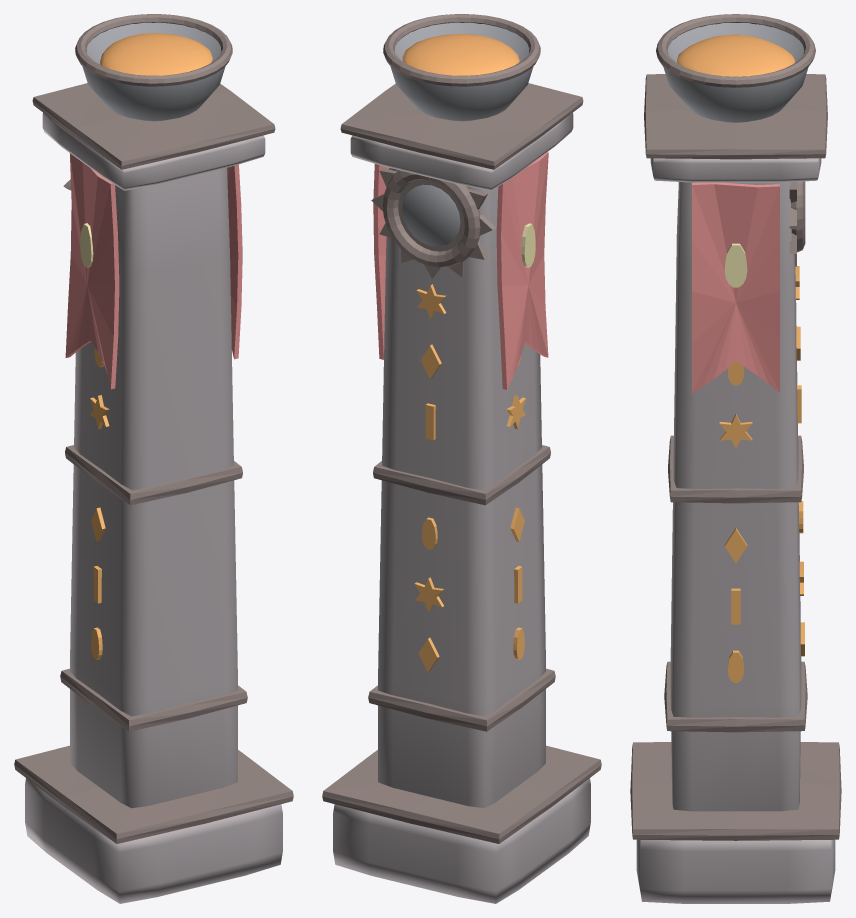
The model's file is RopeTower.glb.
3 views of the same model, side by side, from view 1: azimuth 30°, elevation 25°; view 2: azimuth 150°, elevation 25°; view 3: azimuth 270°, elevation 25° (orthographic).
Visible parts, largest first — view 1: Stone, Trim, Cloth, Metal, Coals, Glow; view 2: Stone, Trim, Cloth, Metal, Glow, Coals; view 3: Stone, Trim, Cloth, Metal, Coals, Glow, Emblem.
Part boxes in pixels (x1,y1,x2,y2): Stone: (25, 113, 282, 903); Trim: (14, 14, 293, 843); Cloth: (65, 153, 242, 389); Metal: (82, 22, 225, 121); Coals: (100, 33, 212, 75); Glow: (90, 348, 109, 659); Stone: (333, 113, 590, 903); Trim: (322, 14, 601, 843); Cloth: (373, 152, 548, 389); Metal: (390, 22, 533, 246); Glow: (415, 284, 525, 672); Coals: (402, 34, 519, 75); Stone: (636, 158, 835, 903); Trim: (630, 14, 841, 840); Cloth: (692, 182, 779, 393); Metal: (664, 23, 807, 122); Coals: (677, 34, 794, 76); Glow: (719, 266, 804, 682); Emblem: (724, 243, 747, 287).
Size of the model in its own units: 10.1 by 43.33 by 10.1.
